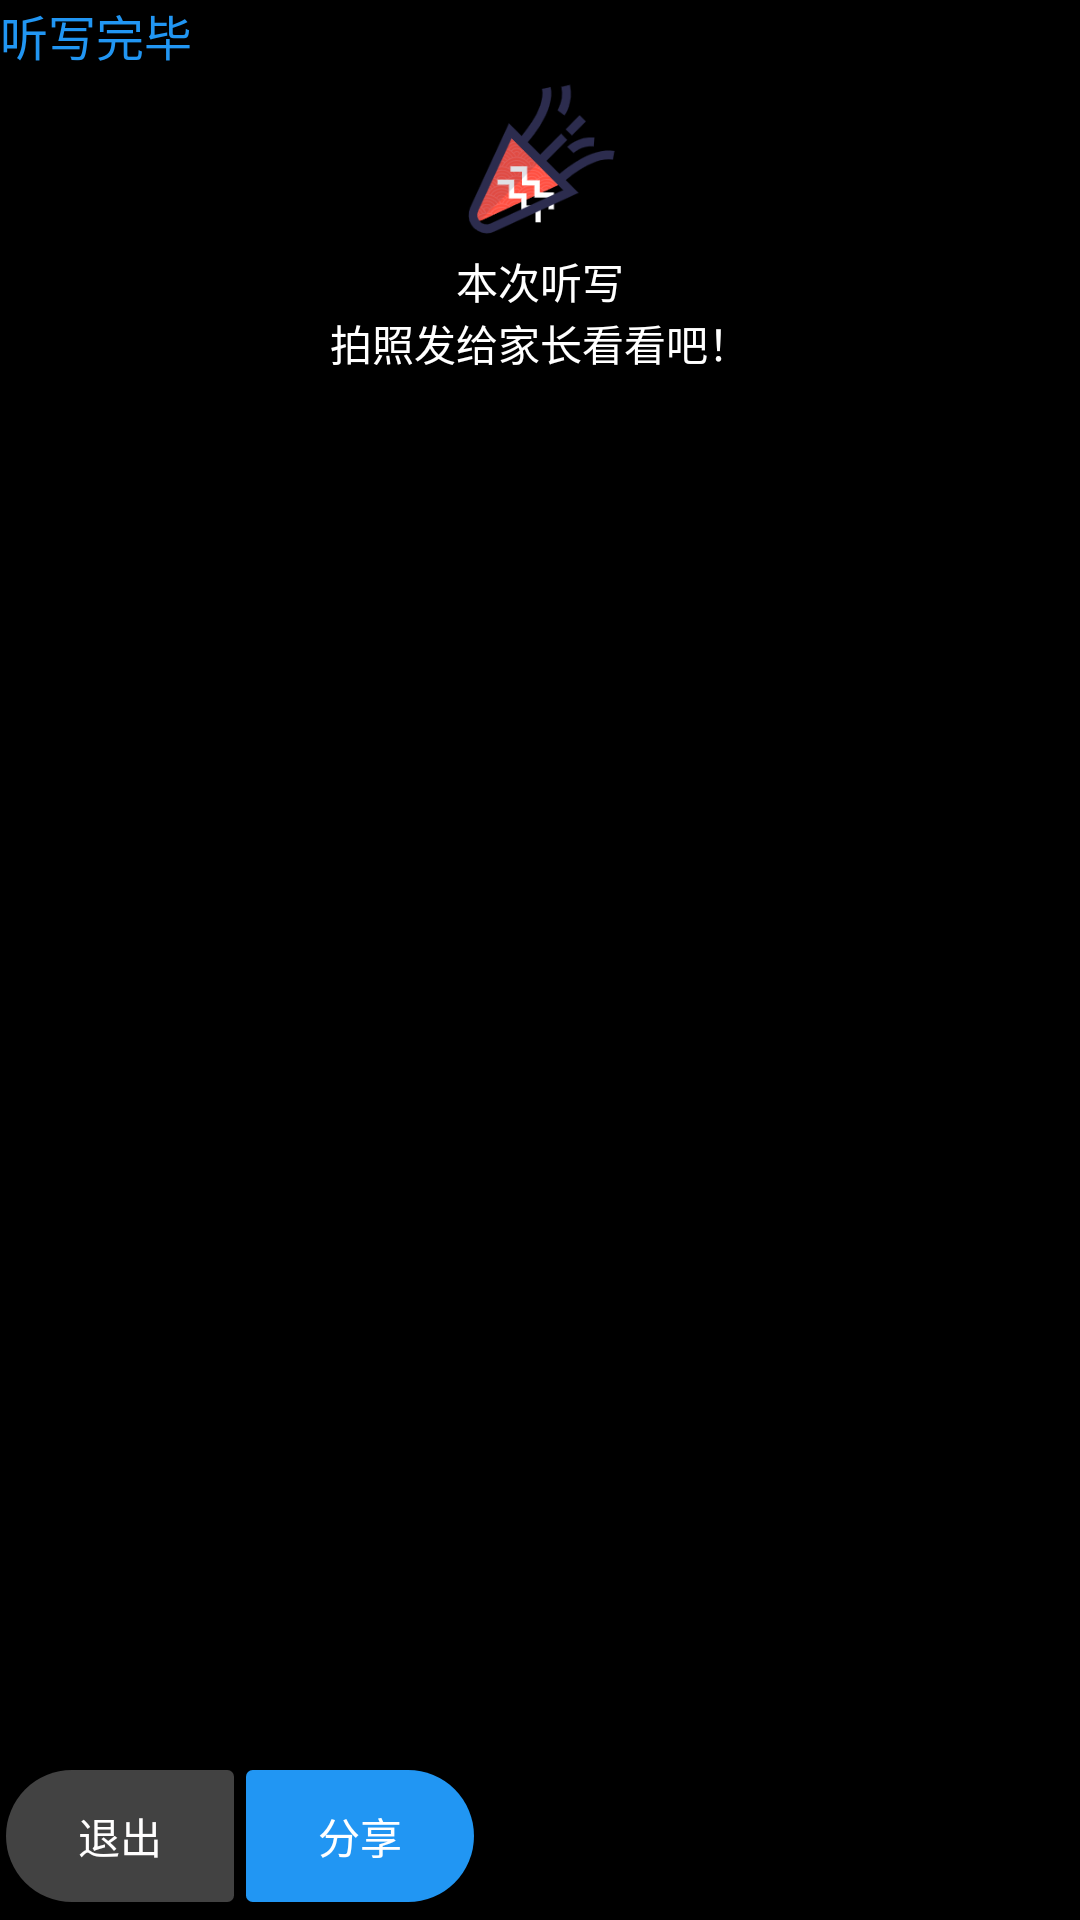

Icon click points for this 1080px×1920px phone screenshot, format (x,y):
celebrateimg: (542,159)
